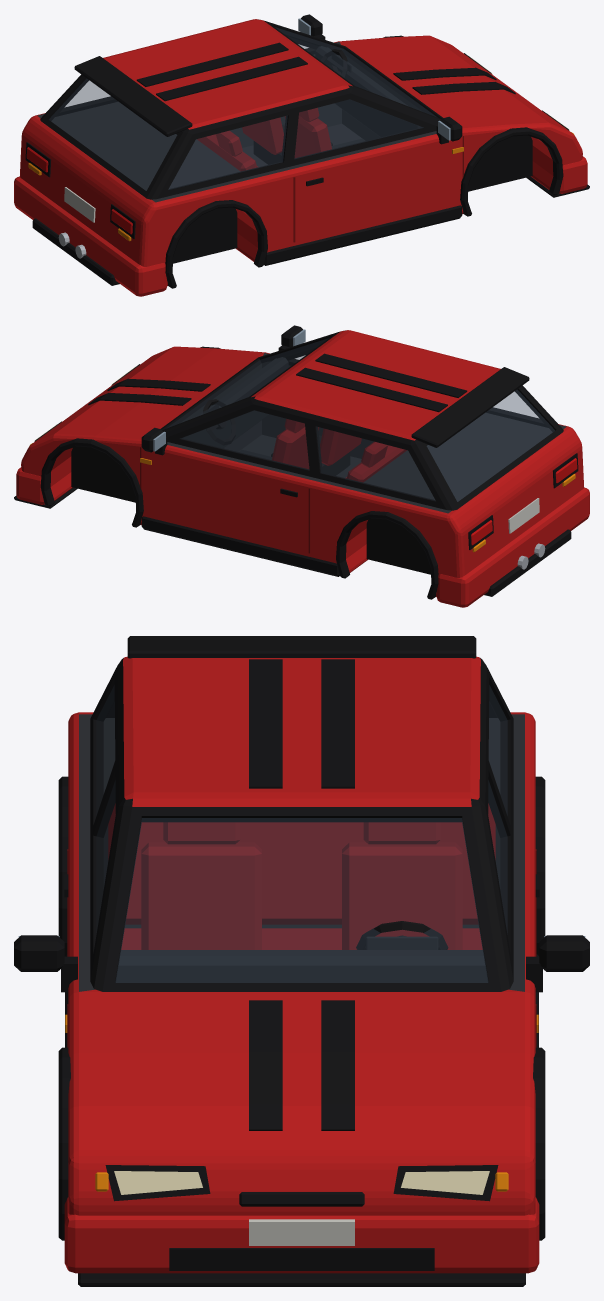
Rendered from hornet.glb.
3 renders of one model, top to bottom at view 1: azimuth 30°, elevation 25°; view 2: azimuth 150°, elevation 25°; view 3: azimuth 270°, elevation 25°, orthographic. The views are drawn at different scales.
Visible parts, largest first — view 1: Body, Glass, Interior, Details, TailLights; view 2: Body, Glass, Interior, Details, TailLights; view 3: Body, Glass, Interior, Details, HeadLights.
Boxes of the visible parts, x1,y1,x2,y2 form: Body: (14,19,589,296); Glass: (49,27,435,190); Interior: (197,46,421,171); Details: (58,14,462,258); TailLights: (26,147,132,234); Body: (14,330,589,607); Glass: (168,338,554,501); Interior: (182,357,406,482); Details: (141,325,545,569); TailLights: (471,458,577,545); Body: (58,656,545,1286); Glass: (96,685,507,982); Interior: (108,803,495,982); Details: (14,636,589,992); HeadLights: (114,1171,489,1194).
Size of the model in its own units: 4.15 by 1.3 by 2.39.
